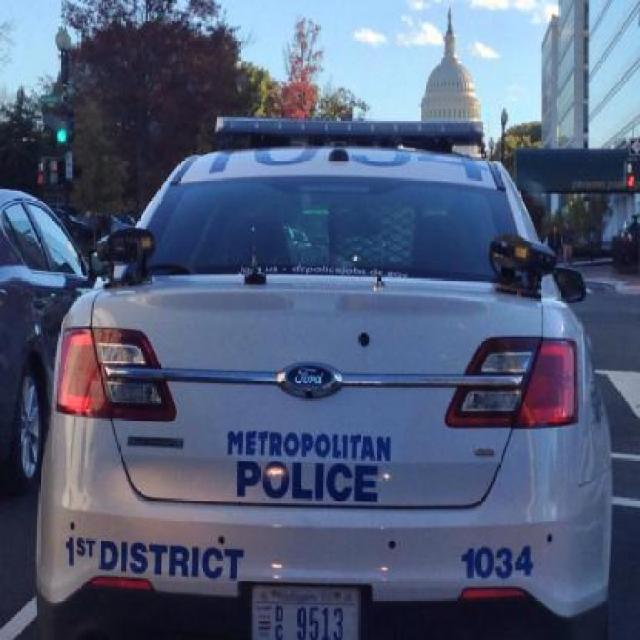License-Plates: (244, 574, 366, 640)
